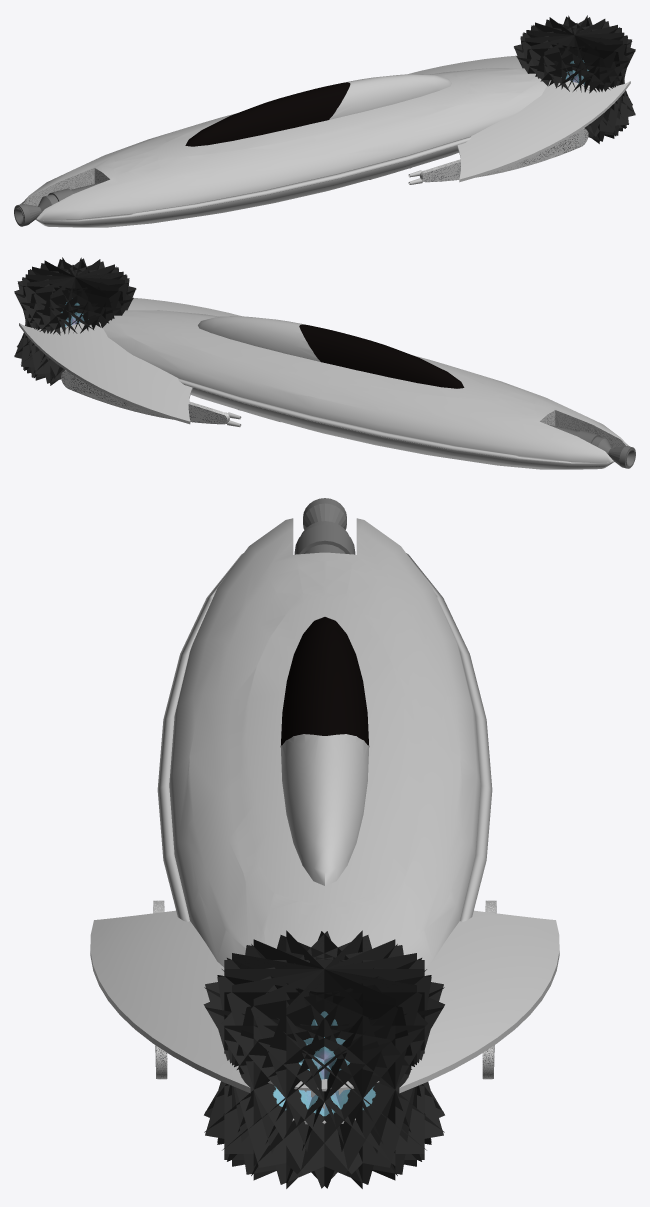
File: orifighter.dae
3 views of the same model, one above another, from view 1: azimuth 30°, elevation 25°; view 2: azimuth 150°, elevation 25°; view 3: azimuth 270°, elevation 25° (orthographic). The views are drawn at different scales.
Parts seen in each view (by area): view 1: Sphere_4 (×2), Component_6 (×4), Sphere_1 (×2), Component_31 (×10), Component_50, Component_58, Component_7; view 2: Sphere_4 (×2), Component_6 (×4), Sphere_1 (×2), Component_31 (×10), Component_50, Component_58, Component_7; view 3: Sphere_4, Component_31 (×30), Component_6 (×2), Sphere_1 (×2), Component_50 (×2), Component_7 (×2).
Part boxes in pixels (box(x1,y1,x2,y2)): Sphere_4 (×2): box(21, 68, 550, 227); Component_6 (×4): box(408, 55, 630, 182); Sphere_1 (×2): box(185, 74, 451, 146); Component_31 (×10): box(523, 17, 635, 143); Component_50: box(35, 136, 471, 221); Component_58: box(420, 128, 588, 182); Component_7: box(14, 183, 100, 226); Sphere_4 (×2): box(99, 310, 628, 469); Component_6 (×4): box(19, 297, 241, 424); Sphere_1 (×2): box(198, 316, 464, 388); Component_31 (×10): box(17, 259, 128, 385); Component_50: box(178, 378, 614, 463); Component_58: box(61, 370, 229, 424); Component_7: box(549, 425, 635, 468); Sphere_4: box(169, 518, 480, 967); Component_31 (×30): box(203, 930, 444, 1188); Component_6 (×2): box(90, 910, 559, 1087); Sphere_1 (×2): box(280, 617, 369, 885); Component_50 (×2): box(157, 553, 492, 921); Component_7 (×2): box(294, 498, 355, 554).
Bounding box in the file's own units: 859 × 287 × 133.
Materials: 9 (2 with a texture image).
